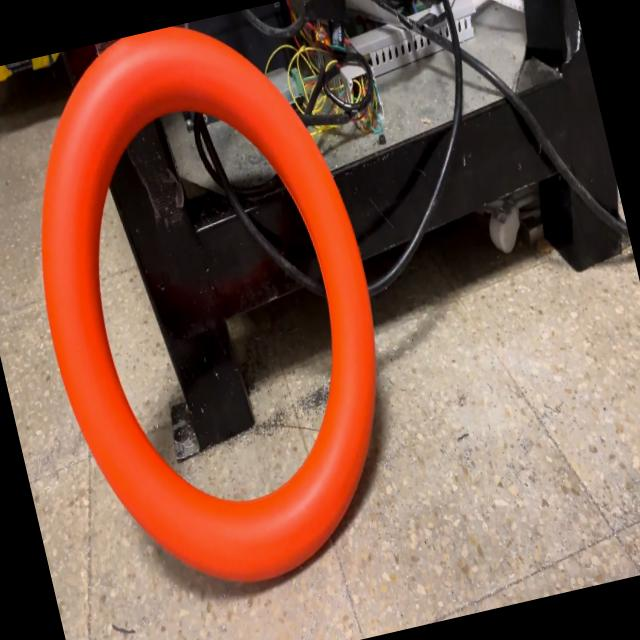note: (0, 0, 430, 619)
